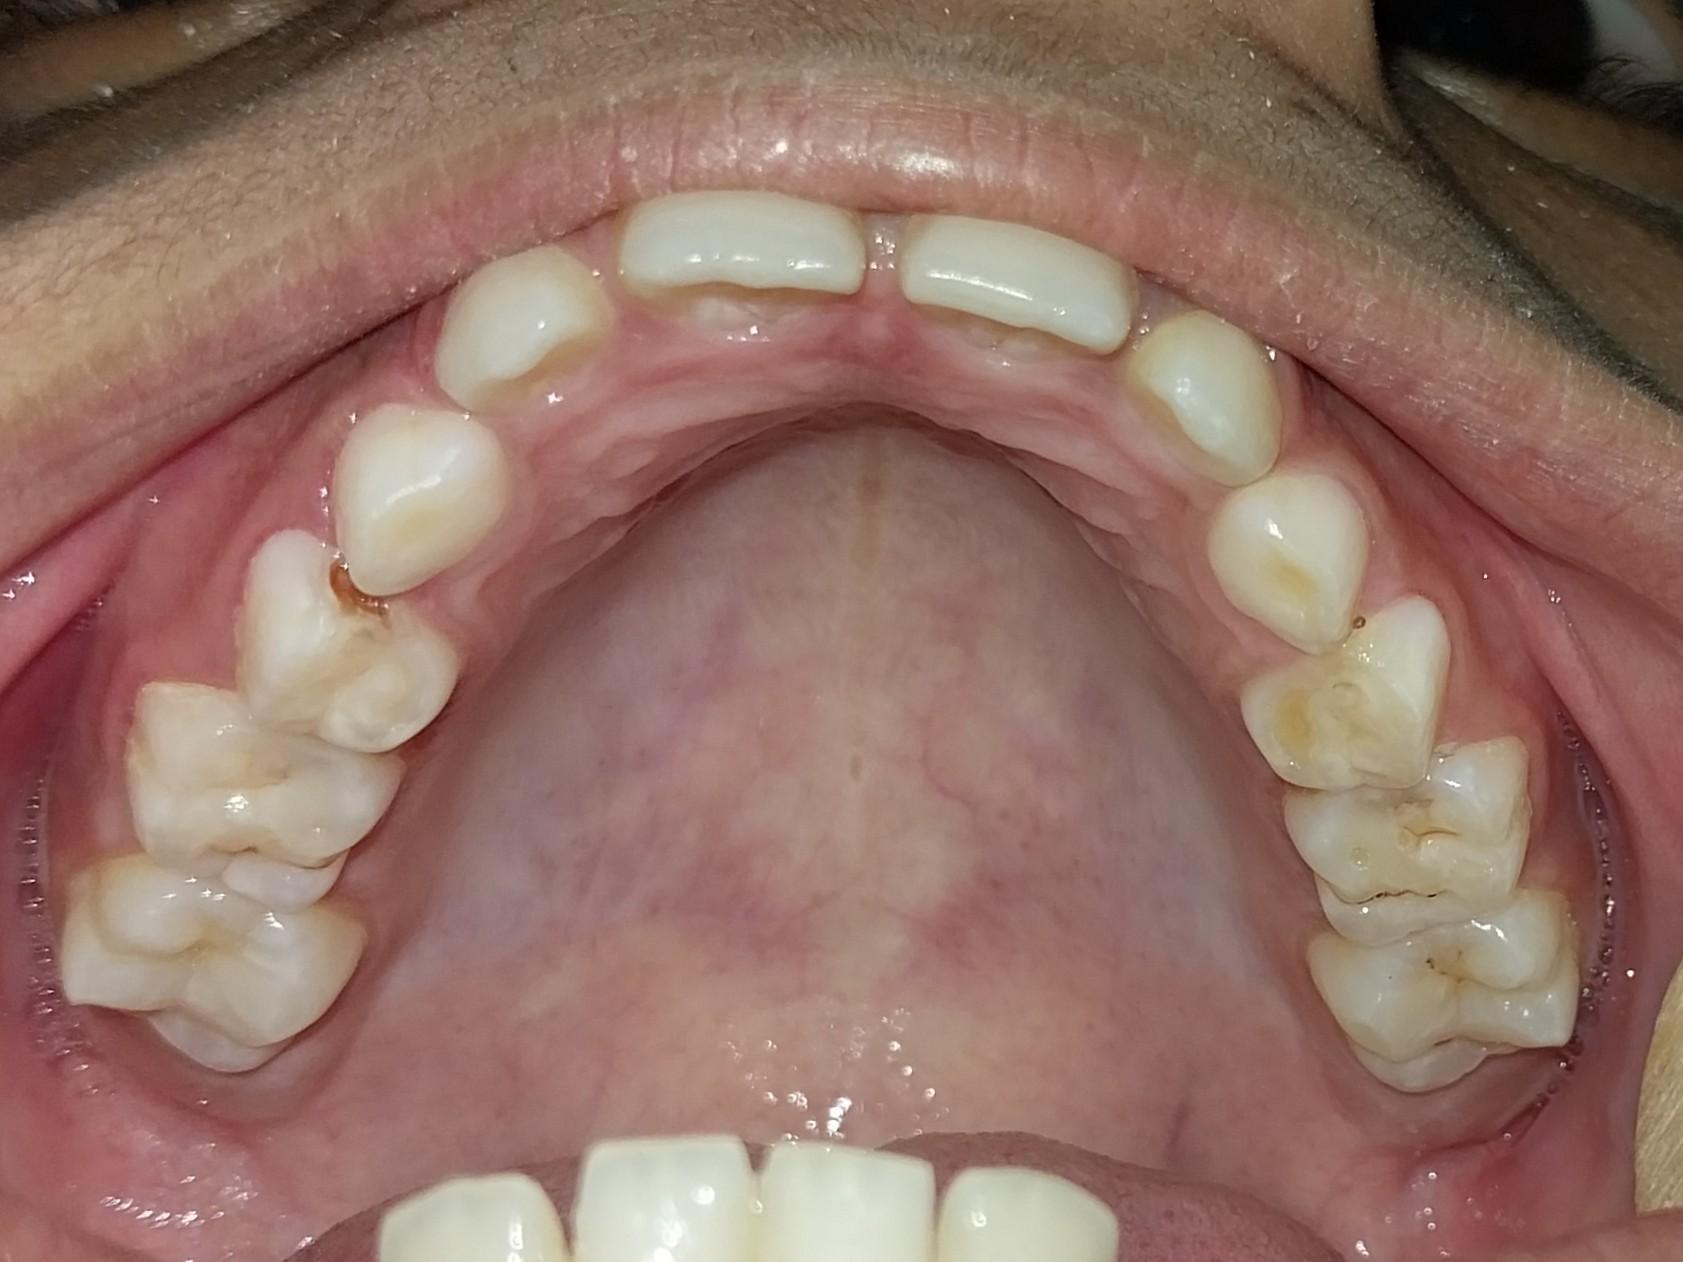d: (230, 532, 461, 756), (1285, 729, 1522, 939)
